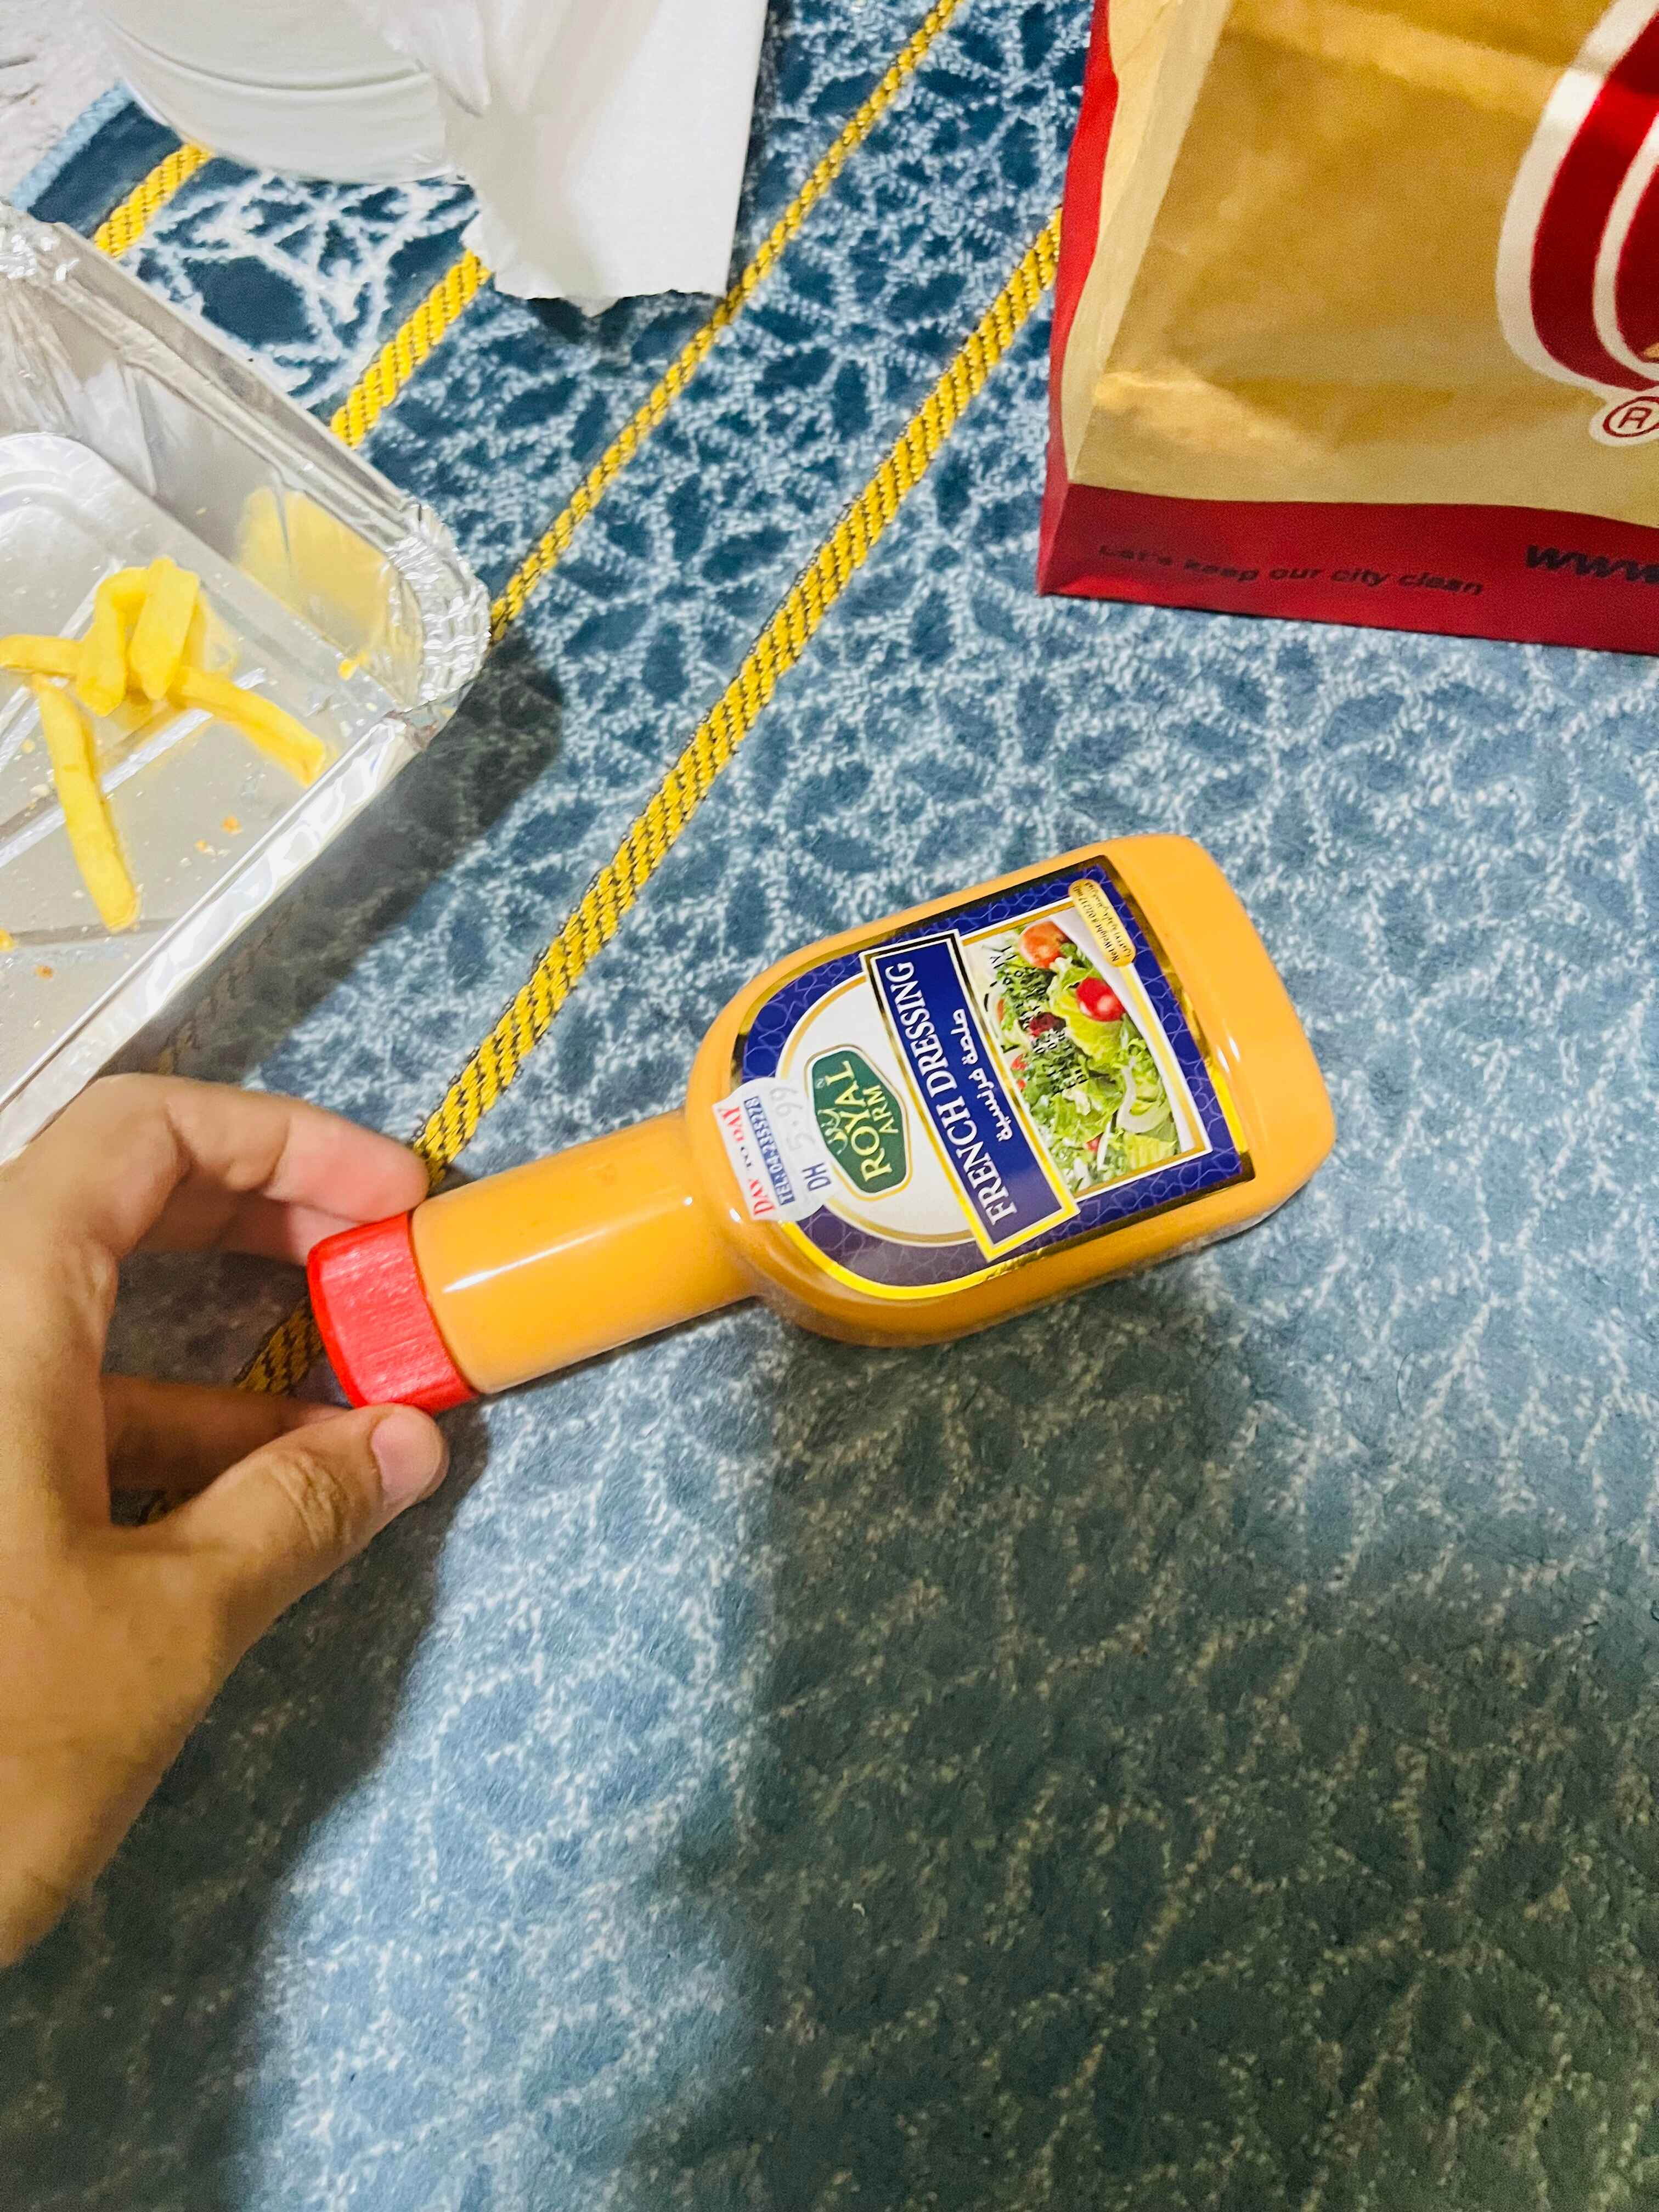PriceTagSmall: (714, 1068, 842, 1233)
